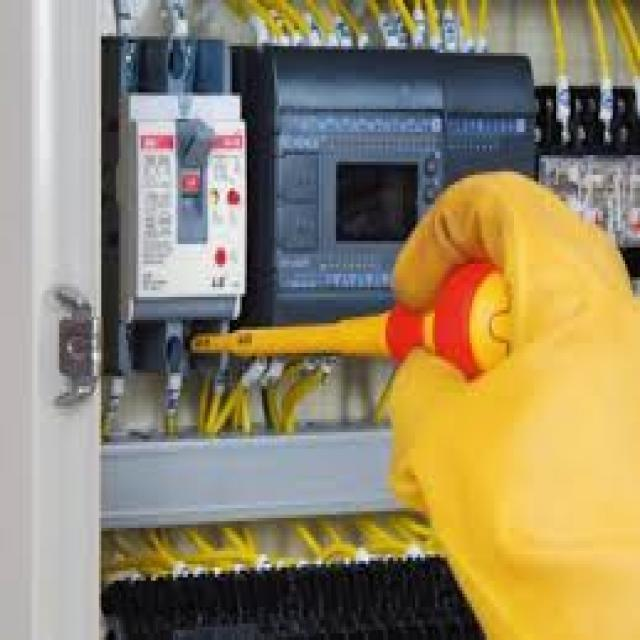screwdriver: (182, 259, 518, 388)
